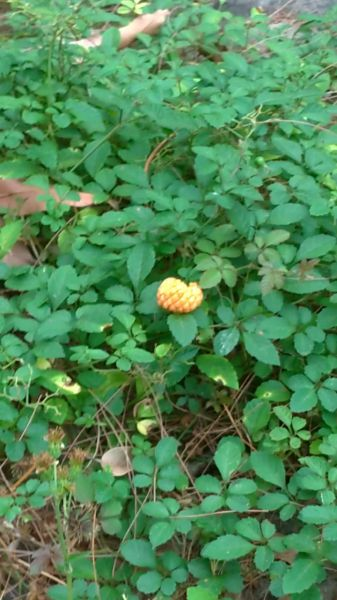eggs: (148, 270, 208, 314)
